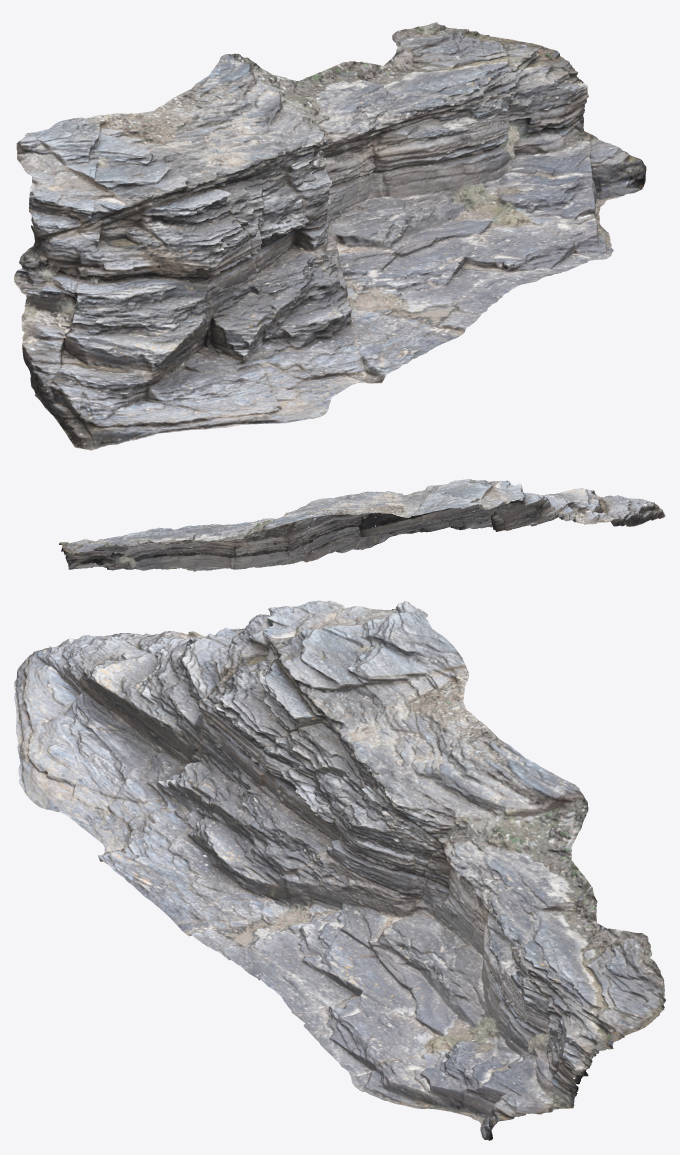
File: layered_beach_rock.glb
3 views of the same model, one above another, from view 1: azimuth 30°, elevation 25°; view 2: azimuth 150°, elevation 25°; view 3: azimuth 270°, elevation 25° (orthographic). The views are drawn at different scales.
Parts seen in each view (by area): view 1: Object_4, Object_7, Object_5, Object_9, Object_6, Object_8, Object_10; view 2: Object_5, Object_6, Object_8, Object_7, Object_9, Object_4, Object_10; view 3: Object_4, Object_8, Object_5, Object_6, Object_7, Object_9, Object_10.
Boxes of the visible parts, box(x1,y1,x2,y2) form: Object_4: box(20, 22, 621, 413); Object_7: box(21, 43, 646, 450); Object_5: box(29, 53, 476, 324); Object_9: box(14, 130, 510, 344); Object_6: box(188, 35, 592, 242); Object_8: box(145, 41, 641, 332); Object_10: box(79, 178, 236, 339); Object_5: box(167, 480, 563, 569); Object_6: box(61, 502, 359, 571); Object_8: box(63, 484, 475, 569); Object_7: box(59, 488, 665, 570); Object_9: box(287, 482, 592, 562); Object_4: box(62, 479, 510, 569); Object_10: box(445, 479, 498, 526); Object_4: box(32, 601, 665, 1129); Object_8: box(218, 680, 641, 1121); Object_5: box(178, 600, 588, 1013); Object_6: box(331, 737, 642, 1096); Object_7: box(14, 631, 641, 1140); Object_9: box(199, 601, 419, 997); Object_10: box(199, 623, 314, 775).
Size of the model in its own units: 0.8129 by 0.2133 by 0.5459.
1 material, 1 textured.
